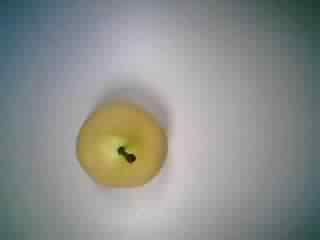pear: (67, 95, 176, 197)
